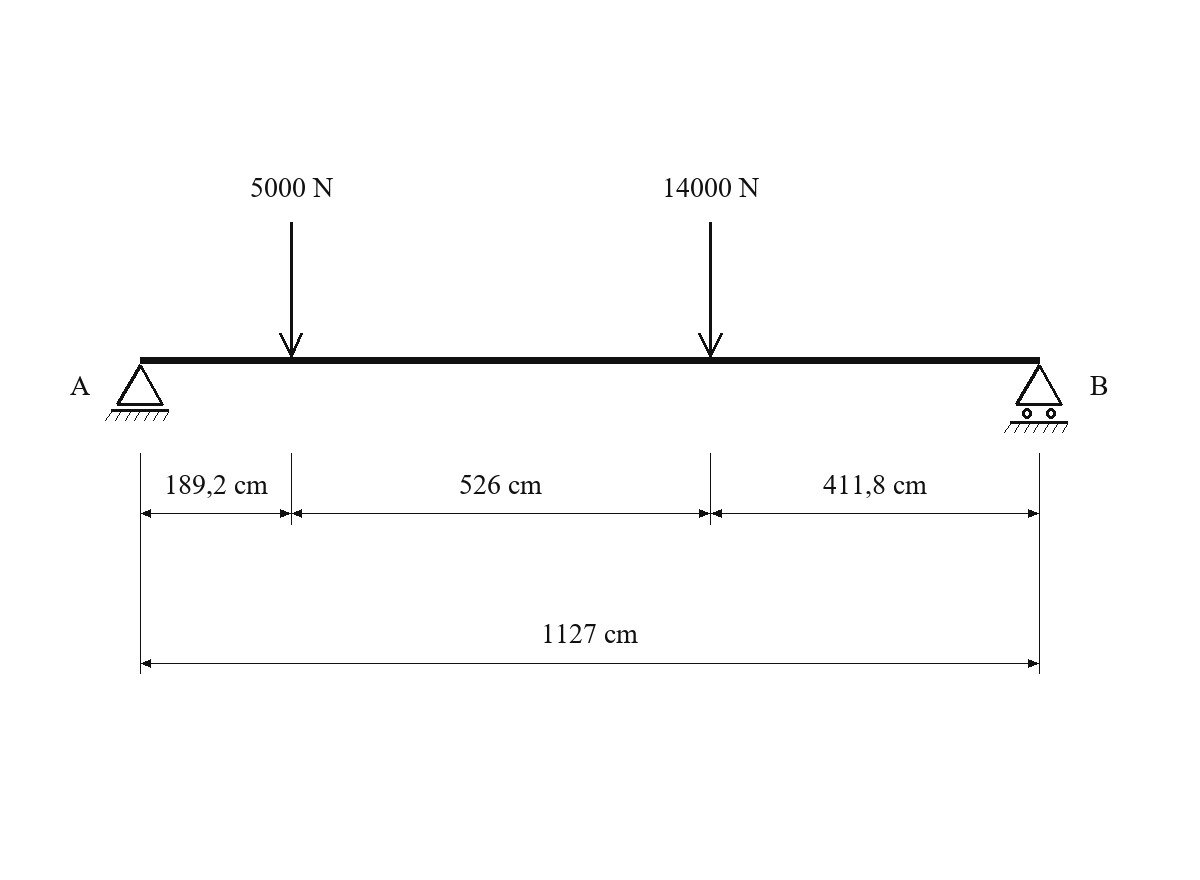pin_support: (105, 364, 169, 421)
point_load: (698, 222, 723, 357), (279, 222, 303, 357)
roller_support: (1004, 364, 1068, 433)
